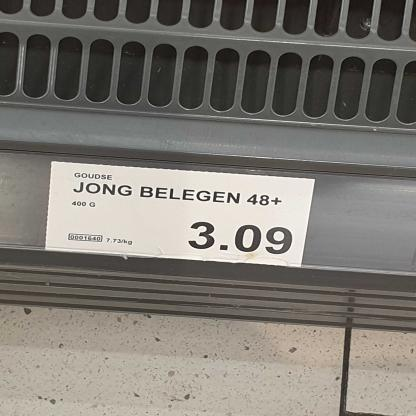prtg: (46, 162, 316, 269)
